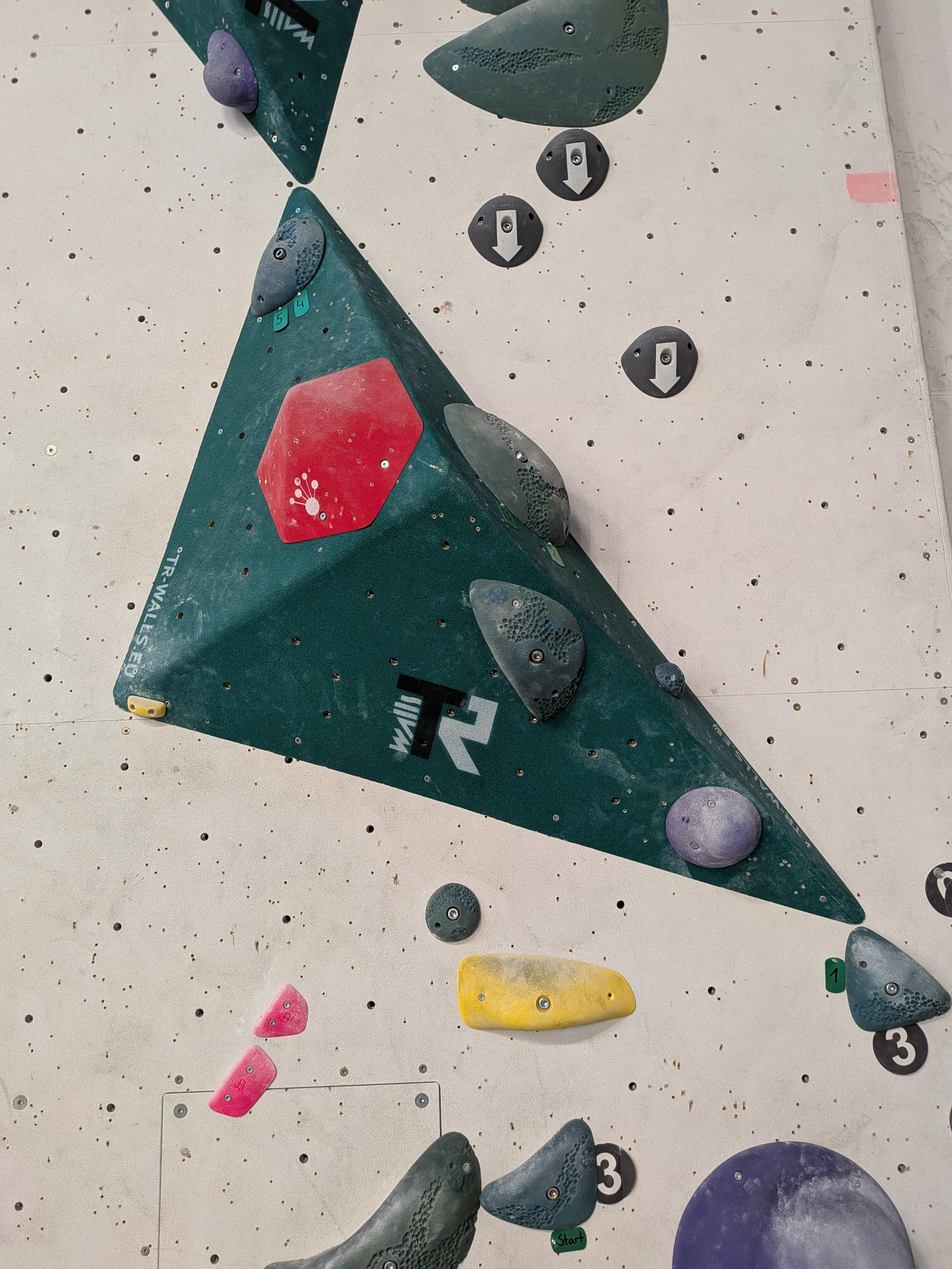hold: (424, 0, 670, 126), (676, 1142, 919, 1269), (257, 360, 421, 542), (268, 1135, 481, 1269), (443, 403, 570, 547), (470, 580, 586, 721), (480, 1119, 598, 1231), (458, 956, 637, 1029), (848, 927, 952, 1031), (249, 212, 323, 316), (668, 789, 763, 868), (622, 325, 698, 398), (536, 128, 609, 201), (468, 199, 542, 267), (208, 1048, 273, 1116), (203, 30, 256, 112), (425, 884, 480, 941), (253, 988, 306, 1037), (124, 697, 164, 719), (659, 662, 685, 693)
volume: (108, 185, 868, 925), (155, 0, 360, 182)
